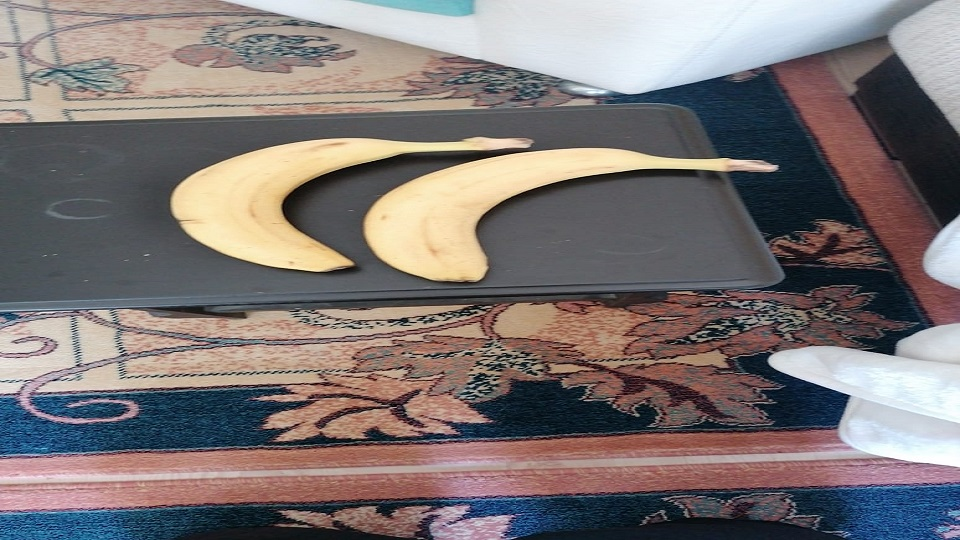muz: (362, 146, 779, 285), (168, 134, 532, 276)
